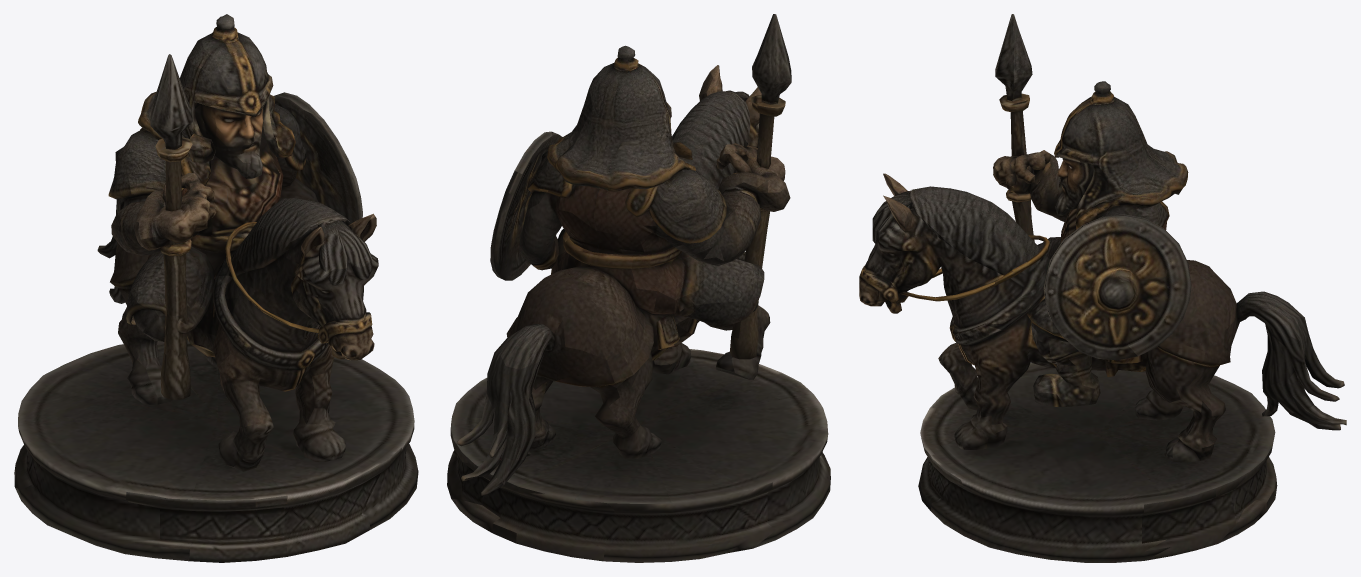
The model's file is rohan.glb.
3 views of the same model, side by side, from view 1: azimuth 30°, elevation 25°; view 2: azimuth 150°, elevation 25°; view 3: azimuth 270°, elevation 25° (orthographic). The views are drawn at different scales.
Visible parts, largest first — view 1: mesh_node; view 2: mesh_node; view 3: mesh_node.
Part boxes in pixels (x1,y1,x2,y2): mesh_node: (14, 14, 418, 562); mesh_node: (447, 14, 830, 562); mesh_node: (859, 14, 1346, 562).
Bounding box in the file's own units: 0.7441 × 0.9785 × 1.
1 material, 1 textured.
